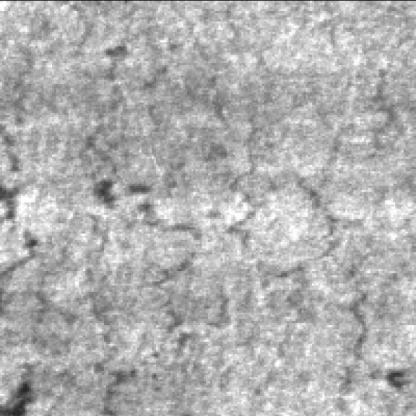crazing: (2, 6, 116, 414), (73, 37, 196, 391), (210, 81, 343, 391)
